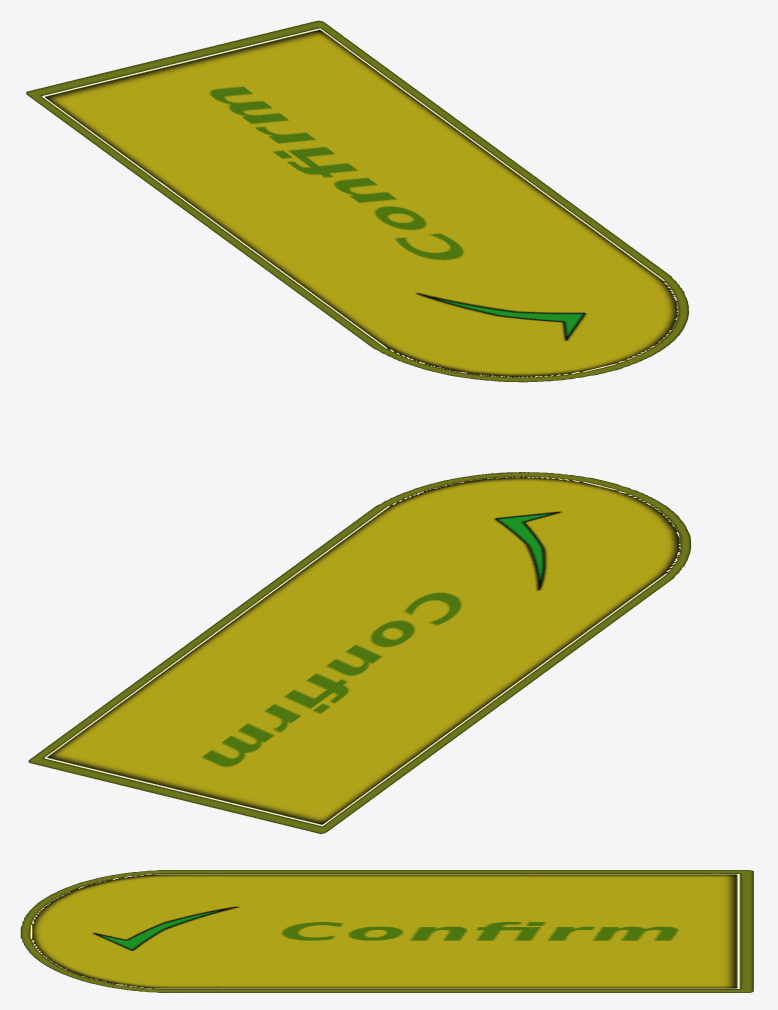
Rendered from button_background.fbx.
3 views of the same model, one above another, from view 1: azimuth 30°, elevation 25°; view 2: azimuth 150°, elevation 25°; view 3: azimuth 270°, elevation 25° (orthographic). The views are drawn at different scales.
Visible parts, largest first — view 1: Plane; view 2: Plane; view 3: Plane.
Part boxes in pixels (<box>): Plane: <box>26,20,688,382</box>; Plane: <box>28,472,691,833</box>; Plane: <box>20,870,753,992</box>.
Size of the model in its own units: 1.25 by 5.06e-07 by 3.11.
